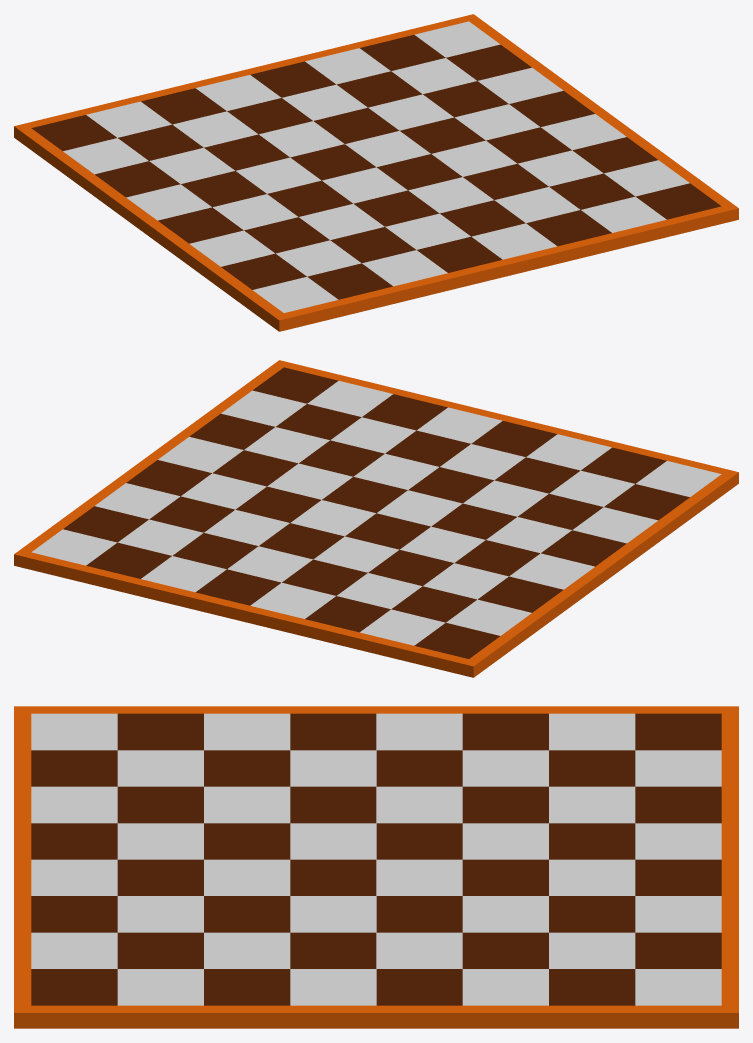
File: checkesboard.fbx
3 views of the same model, one above another, from view 1: azimuth 30°, elevation 25°; view 2: azimuth 150°, elevation 25°; view 3: azimuth 270°, elevation 25° (orthographic). The views are drawn at different scales.
Visible parts, largest first — view 1: BoardModel, Covers; view 2: BoardModel, Covers; view 3: BoardModel, Covers.
Part boxes in pixels (left/top/right/bottom): BoardModel: left=31, top=21, right=721, bottom=312; Covers: left=14, top=14, right=738, bottom=331; BoardModel: left=31, top=367, right=721, bottom=658; Covers: left=14, top=360, right=738, bottom=677; BoardModel: left=31, top=713, right=721, bottom=1005; Covers: left=14, top=706, right=738, bottom=1028.
Bounding box in the file's own units: 840 × 20 × 840.
